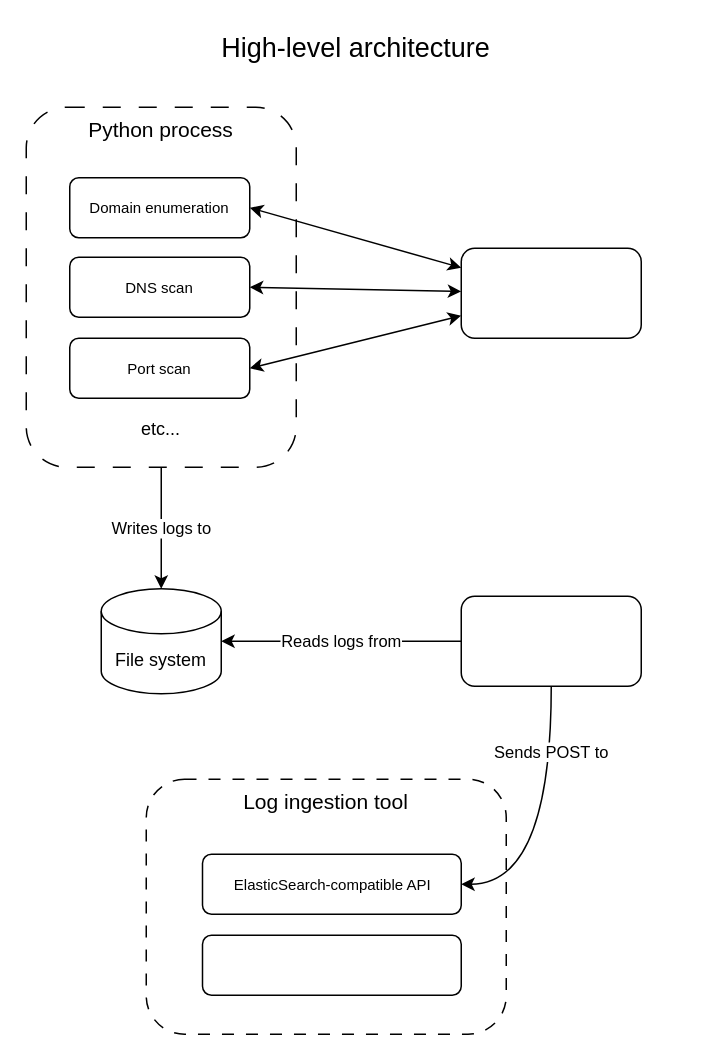
The diagram is 713 pixels wide and 1061 high, and some of its shapes have lost their labels. Here are the shapes that lost their labels. From the top down, the centre of each, then its label:
At (550,292): "Message Broker".
At (550,640): "Log shipper".
At (331,964): "Web UI frontend".
